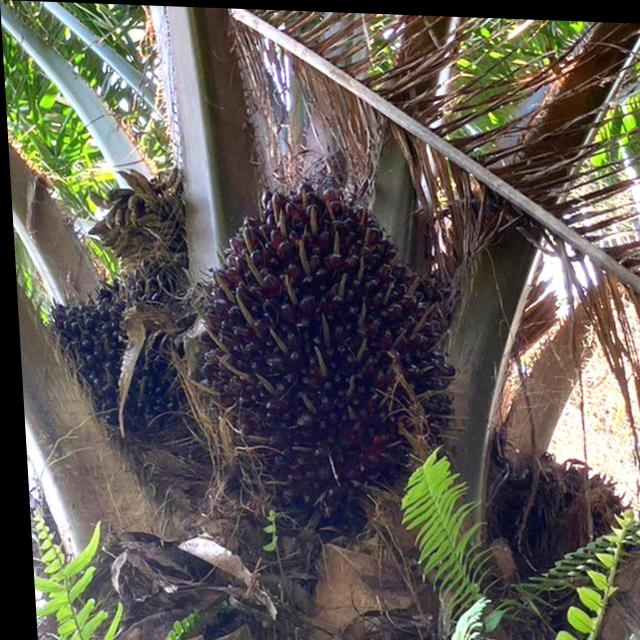ripe: (156, 160, 456, 520)
